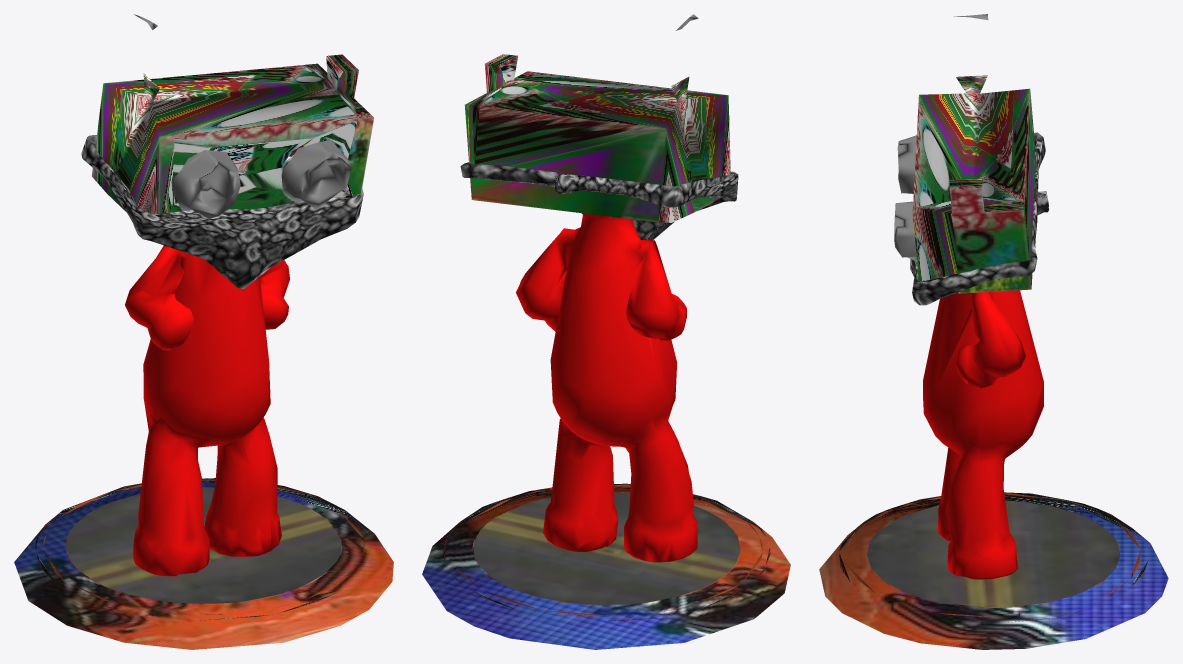
3 renders of one model, left to right at view 1: azimuth 30°, elevation 25°; view 2: azimuth 150°, elevation 25°; view 3: azimuth 270°, elevation 25°, orthographic. The views are drawn at different scales.
Size of the model in its own units: 1.44 by 2.41 by 1.44.
Materials: 6 (4 with a texture image).
